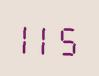five: (59, 20, 78, 56)
one: (18, 18, 37, 55), (39, 19, 58, 56)
